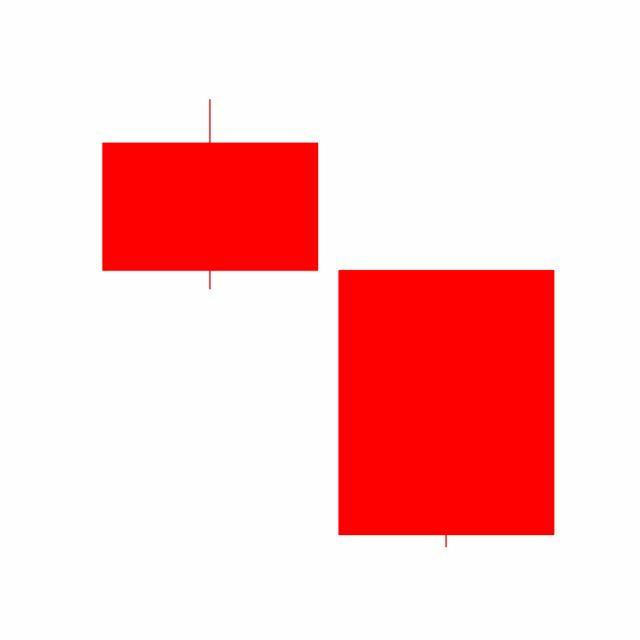Marubozu: (328, 267, 566, 551)
